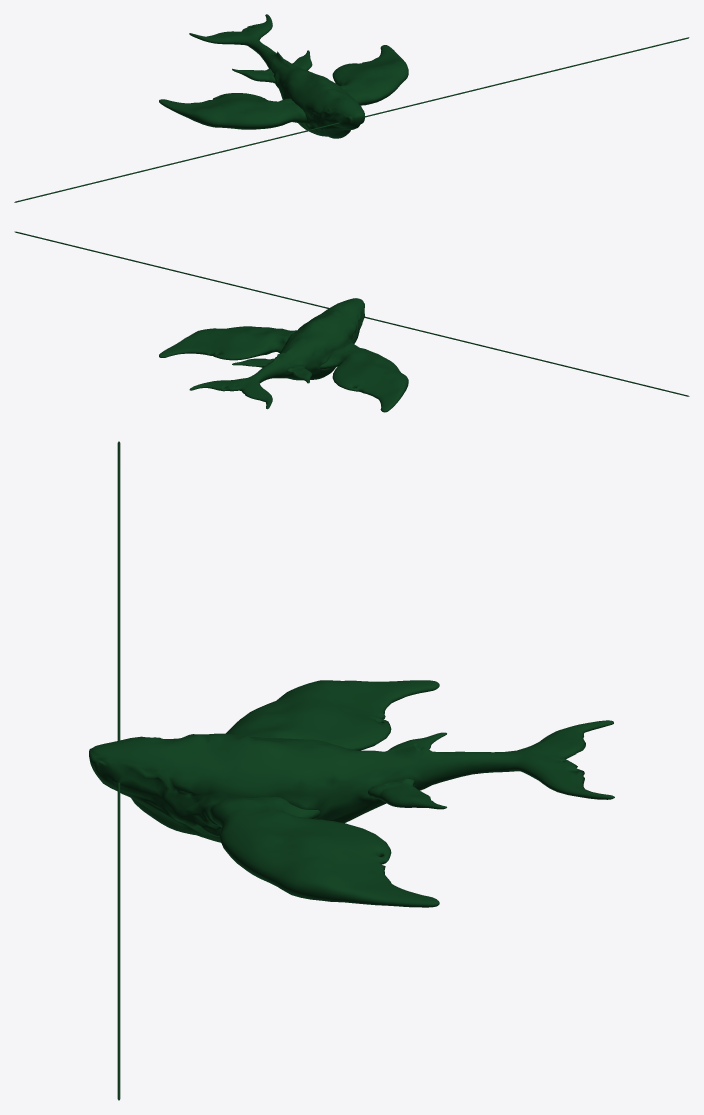
The model's file is ALL_FBX.fbx.
3 views of the same model, one above another, from view 1: azimuth 30°, elevation 25°; view 2: azimuth 150°, elevation 25°; view 3: azimuth 270°, elevation 25° (orthographic). The views are drawn at different scales.
Parts seen in each view (by area): view 1: ZBrushPolyMesh3D; view 2: ZBrushPolyMesh3D; view 3: ZBrushPolyMesh3D.
Boxes of the visible parts, x1,y1,x2,y2 form: ZBrushPolyMesh3D: [14, 14, 689, 202]; ZBrushPolyMesh3D: [14, 231, 689, 412]; ZBrushPolyMesh3D: [89, 441, 614, 1100].
Bounding box in the file's own units: 743 × 55.92 × 250.
